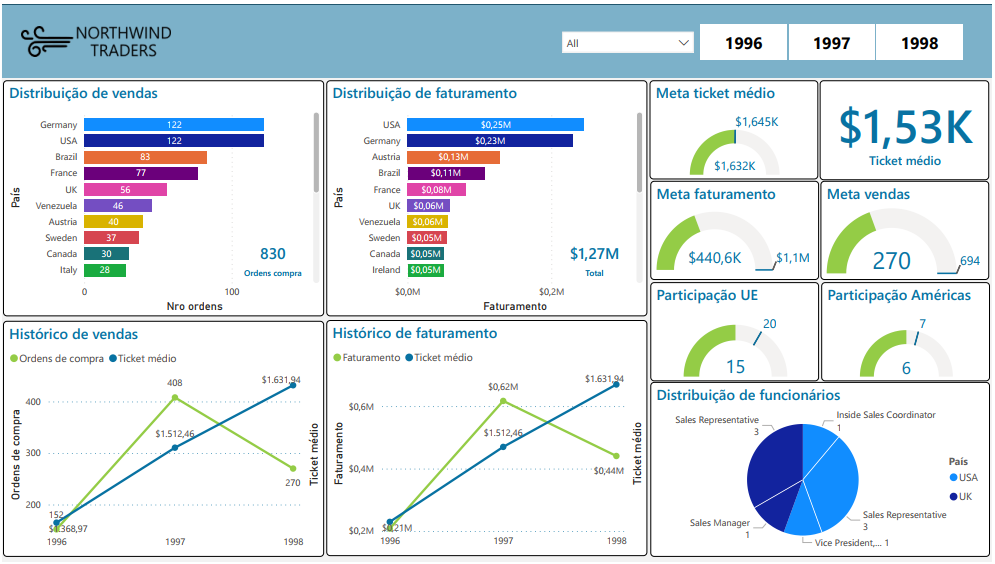

This screenshot's page, from the dashboard's own definition file:
{"tool":"powerbi","page":{"name":"Geral","canvas":[1280,720],"ordinal":0},"visuals":[{"type":"basicShape","box":[0,0,1280.3,94.7],"z":0},{"type":"image","box":[20.6,15.1,203.1,64.5],"z":1000},{"type":"barChart","title":"Distribuição de vendas","fields":{"Category":["orders.ship_country"],"Y":["CountNonNull(orders.order_id)"],"Series":["orders.ship_country"]},"box":[1.9,98,415,305.4],"z":2000},{"type":"slicer","title":"Ano","fields":{"Values":["orders.order_date.Variation.Date Hierarchy.Year"]},"box":[878.2,17.8,388.3,60.4],"z":3000},{"type":"pieChart","title":"Distribuição de funcionários","fields":{"Category":["employees.country"],"Y":["CountNonNull(employees.country)"],"Series":["employees.title"]},"box":[838.7,488,439.3,225.8],"z":4000},{"type":"barChart","title":"Distribuição de faturamento","fields":{"Category":["order_infos.country"],"Y":["Sum(order_details.totalValue)"],"Series":["order_infos.country"]},"box":[420,98,415,305.4],"z":5000},{"type":"lineChart","title":"Histórico de faturamento","fields":{"Y2":["order_details.mAvgTicket"],"Category":["order_infos.order_date.Variation.Date Hierarchy.Year","order_infos.order_date.Variation.Date Hierarchy.Quarter","order_infos.order_date.Variation.Date Hierarchy.Month","order_infos.order_date.Variation.Date Hierarchy.Day"],"Y":["Sum(order_details.totalValue)"]},"box":[419.6,407.7,415,305.8],"z":6000},{"type":"card","fields":{"Values":["Count(orders.order_id)"]},"box":[299.5,299.5,102.2,60.5],"z":7000},{"type":"card","fields":{"Values":["Sum(order_details.totalValue)"]},"box":[715.7,299.5,102.2,60.5],"z":8000},{"type":"slicer","fields":{"Values":["order_infos.country"]},"box":[715,25.3,190,50],"z":9000},{"type":"lineChart","title":"Histórico de vendas","fields":{"Y2":["order_details.mAvgTicket"],"Category":["order_infos.order_date.Variation.Date Hierarchy.Year","order_infos.order_date.Variation.Date Hierarchy.Quarter","order_infos.order_date.Variation.Date Hierarchy.Month","order_infos.order_date.Variation.Date Hierarchy.Day"],"Y":["Count(order_details.order_id)"]},"box":[1.9,408.5,415.3,305.4],"z":10000},{"type":"gauge","title":"Meta faturamento","fields":{"Y":["order_details.currentYearRevenue"],"TargetValue":["order_details.goalNextYearRevenue"],"MaxValue":["order_details.goalNextYearRevenue"]},"box":[838.7,228.5,218,128],"z":11000},{"type":"gauge","title":"Meta vendas","fields":{"Y":["order_details.currentYearOrders"],"TargetValue":["order_details.goalNextYearOrders"],"MaxValue":["order_details.goalNextYearOrders"]},"box":[1059.2,227.6,217.9,128.4],"z":12000},{"type":"gauge","title":"Participação Américas","fields":{"Y":["order_details.currentYearAmericas"],"TargetValue":["order_details.goalNextYearAmericas"]},"box":[1059.6,359,218.5,127.6],"z":13000},{"type":"gauge","title":"Participação UE","fields":{"Y":["order_details.currentYearEurope"],"TargetValue":["order_details.goalNextYearEurope"]},"box":[838.7,358.7,218,128],"z":14000},{"type":"gauge","title":"Meta ticket médio","fields":{"Y":["order_details.currentYearAvgTicket"],"TargetValue":["order_details.goalNextYearAvgTicket"]},"box":[838,98.3,218,128],"z":15000},{"type":"card","fields":{"Values":["order_details.mAvgTicket"]},"box":[1058.3,98.3,218.7,128.4],"z":16000}]}

Visuals, with their boxes in screenshot pixels (x1, y1, x2, y2), scaled from the page's 1280x720 canvas onto the 995x564 screenshot:
basicShape: {"x1": 0, "y1": 0, "x2": 994, "y2": 74}
image: {"x1": 16, "y1": 12, "x2": 174, "y2": 62}
"Distribuição de vendas" barChart: {"x1": 1, "y1": 77, "x2": 324, "y2": 316}
"Ano" slicer: {"x1": 683, "y1": 14, "x2": 985, "y2": 61}
"Distribuição de funcionários" pieChart: {"x1": 652, "y1": 382, "x2": 993, "y2": 559}
"Distribuição de faturamento" barChart: {"x1": 326, "y1": 77, "x2": 649, "y2": 316}
"Histórico de faturamento" lineChart: {"x1": 326, "y1": 319, "x2": 649, "y2": 559}
card - Count(orders.order_id): {"x1": 233, "y1": 235, "x2": 312, "y2": 282}
card - Sum(order_details.totalValue): {"x1": 556, "y1": 235, "x2": 636, "y2": 282}
slicer - order_infos.country: {"x1": 556, "y1": 20, "x2": 703, "y2": 59}
"Histórico de vendas" lineChart: {"x1": 1, "y1": 320, "x2": 324, "y2": 559}
"Meta faturamento" gauge: {"x1": 652, "y1": 179, "x2": 821, "y2": 279}
"Meta vendas" gauge: {"x1": 823, "y1": 178, "x2": 993, "y2": 279}
"Participação Américas" gauge: {"x1": 824, "y1": 281, "x2": 994, "y2": 381}
"Participação UE" gauge: {"x1": 652, "y1": 281, "x2": 821, "y2": 381}
"Meta ticket médio" gauge: {"x1": 651, "y1": 77, "x2": 821, "y2": 177}
card - order_details.mAvgTicket: {"x1": 823, "y1": 77, "x2": 993, "y2": 178}
